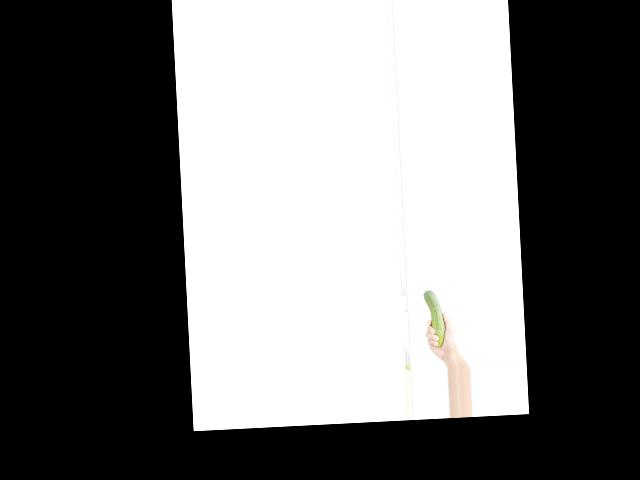cucumber: (422, 289, 445, 347)
